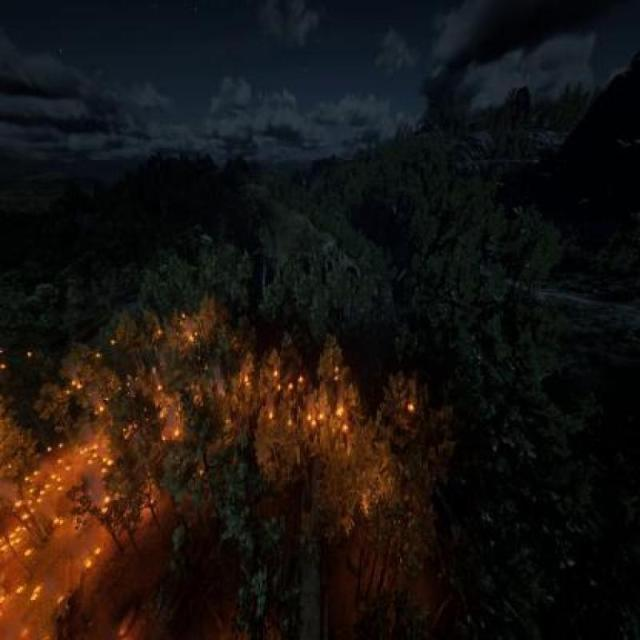Fire: (146, 306, 354, 452), (48, 417, 127, 620), (1, 438, 48, 640), (55, 338, 128, 417), (128, 463, 167, 534), (390, 386, 420, 417)
